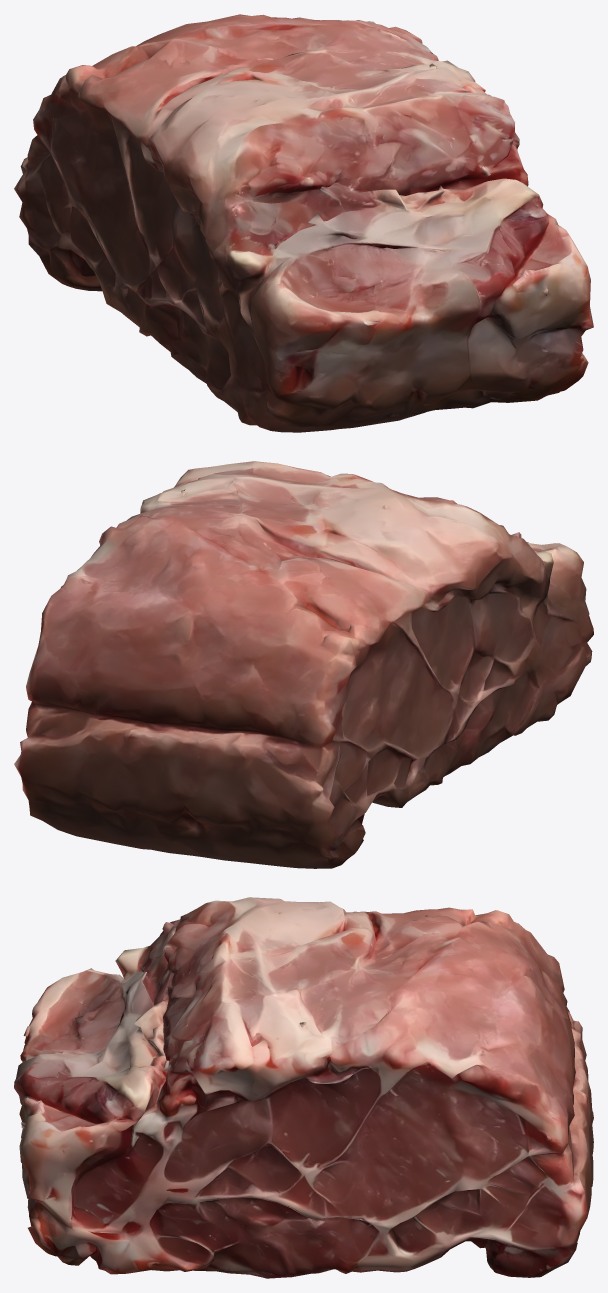
File: meat_slab_b.glb
3 renders of one model, top to bottom at view 1: azimuth 30°, elevation 25°; view 2: azimuth 150°, elevation 25°; view 3: azimuth 270°, elevation 25°, orthographic.
Parts seen in each view (by area): view 1: meat_slab_b / mesh; view 2: meat_slab_b / mesh; view 3: meat_slab_b / mesh.
Boxes of the visible parts, x1=… form: meat_slab_b / mesh: x1=14, y1=14, x2=593, y2=432; meat_slab_b / mesh: x1=14, y1=461, x2=593, y2=868; meat_slab_b / mesh: x1=14, y1=897, x2=593, y2=1278.
Size of the model in its own units: 0.1949 by 0.1583 by 0.3.
Materials: 1 (1 with a texture image).
